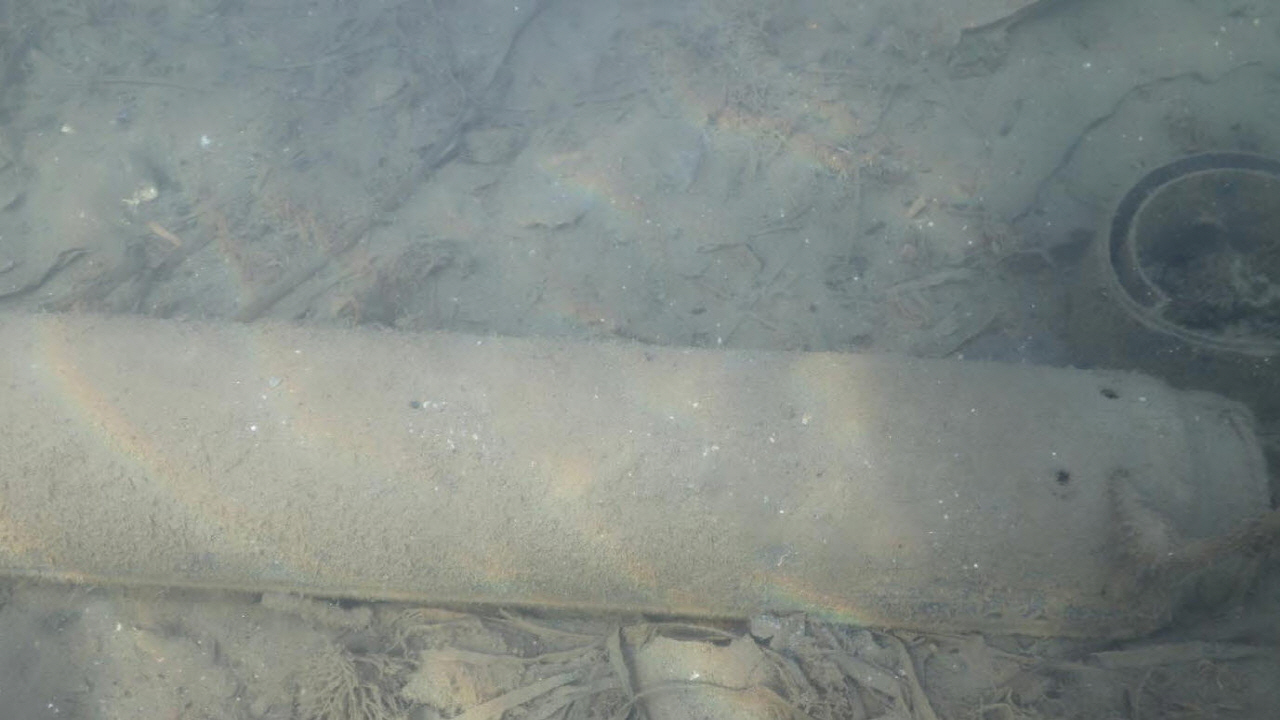eel fish trap: (0, 313, 1265, 635)
